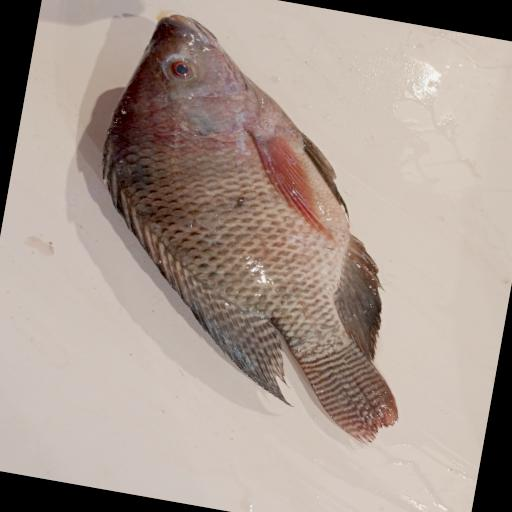Tilapia: (61, 6, 461, 450)
